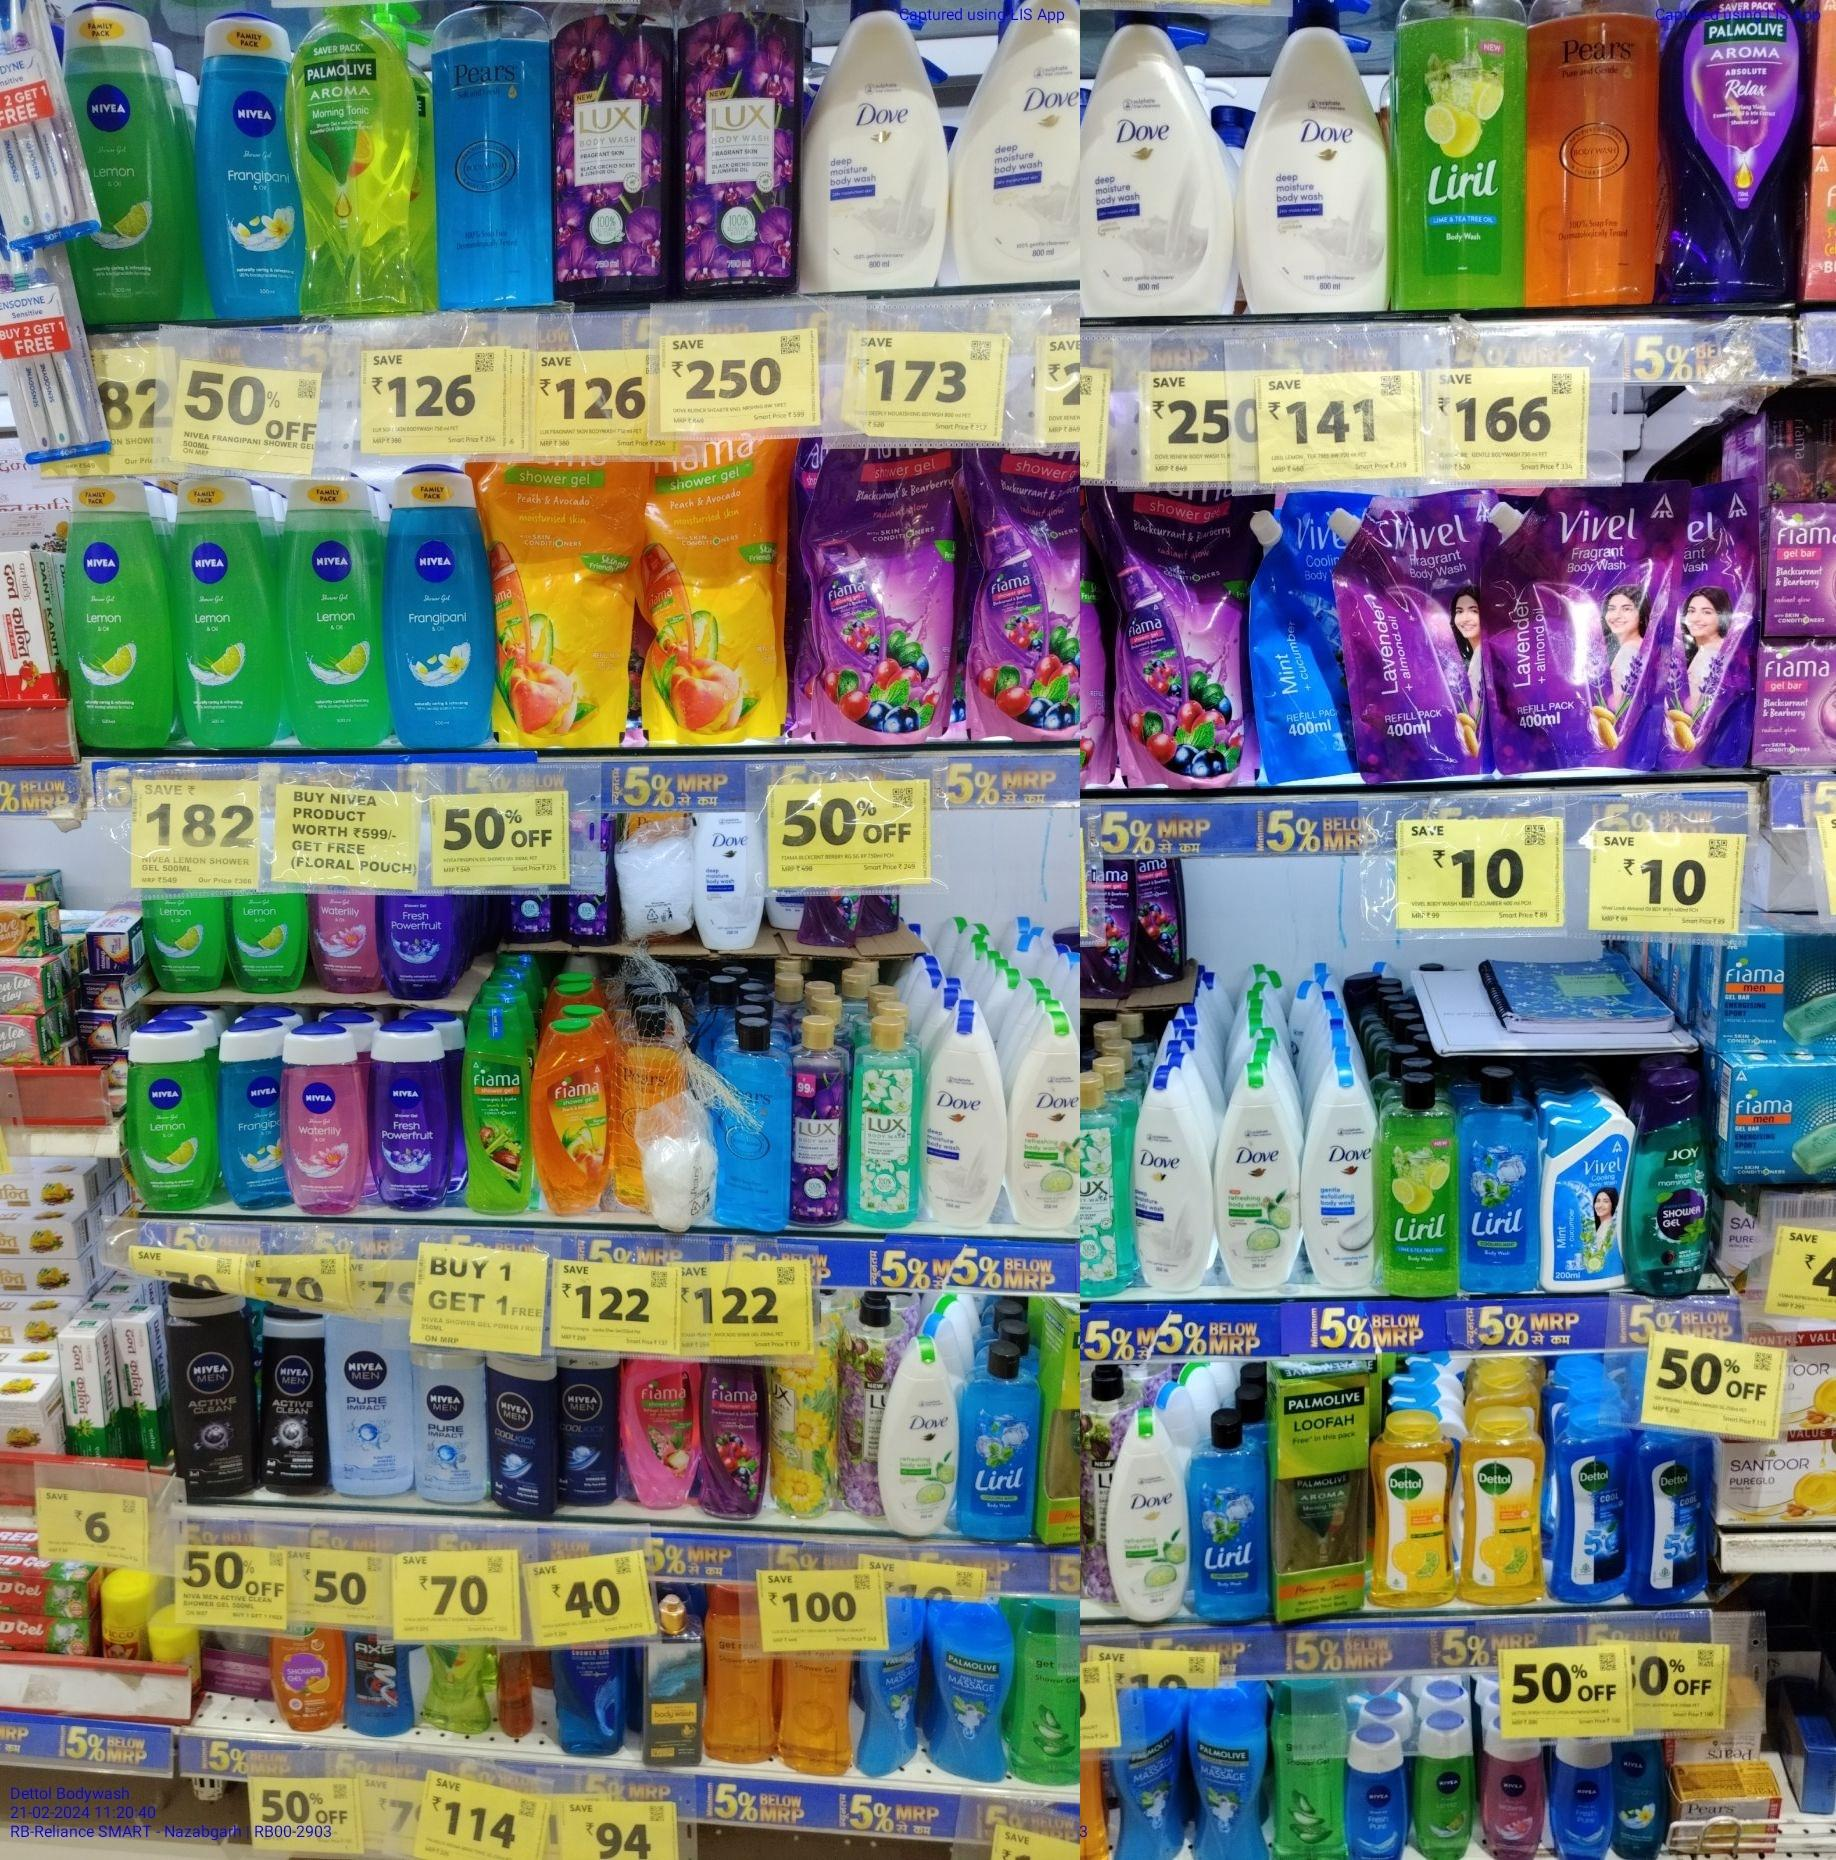Dettol_Bodywash_Cool: (1550, 1403, 1629, 1601), (1628, 1431, 1713, 1608)
Dettol_Bodywash_Refresh: (1456, 1404, 1545, 1606), (1369, 1406, 1454, 1611)
Dove_Deep_Moisture_Body_Wash_250ML: (1132, 1065, 1212, 1293), (923, 1014, 1005, 1231)
Dove_Gentle_Exfoliating_Body_Wash_250ML: (1305, 1065, 1370, 1287)
Dove_Refreshing_Body_Wash_250ML: (1214, 1063, 1301, 1292), (1105, 1408, 1187, 1626), (876, 1332, 958, 1542)
Fiama_Shower_Gel_Patchouli_and_Macadamia_250ML: (620, 1359, 699, 1509)
Fiama_Shower_Gel_Peach_and_Avocado_250ML: (531, 1017, 612, 1218)
Joy_Shower_Gel_Mint_and_Eucalyptus_250ML: (1628, 1068, 1713, 1297)
Liril_Cooling_Mint_Body_Wash_250ML: (1456, 1065, 1538, 1292), (1187, 1406, 1271, 1625), (957, 1339, 1039, 1535)
Liril_Lime_and_Tea_Tree_Oil_Body_Wash_250ML: (1374, 1071, 1458, 1297)
Lux_Black_Orchid_Scent_and_Juniper_Oil_Body_Wash_245ML: (789, 1014, 851, 1229)
Lux_Body_Wash_Skin_Detox_Freesia_Scent_and_Alove_Vera_245ML: (851, 1012, 918, 1224)
Nivea_Shower_Gel_Frangipani_and_Oil_250ML: (385, 461, 496, 748), (219, 1017, 281, 1211)
Nivea_Shower_Gel_Fresh_Powerfruit_250ML: (363, 1021, 451, 1209)
Nivea_Shower_Gel_Lemon_and_Oil_250ML: (277, 474, 387, 747), (170, 476, 277, 748), (64, 476, 170, 748), (124, 1017, 217, 1207)
Nivea_Shower_Gel_Waterlily_and_Oil_250ML: (281, 1021, 365, 1216)
Palmolive_Aroma_Moments_Feel_The_Massage_Shower_Gel_250ML: (930, 1601, 1012, 1784), (1184, 1687, 1268, 1860)
Pears_Pure_Glycerin_and_Mint_Extracts_Body_Wash_250ML: (716, 1014, 792, 1231)
